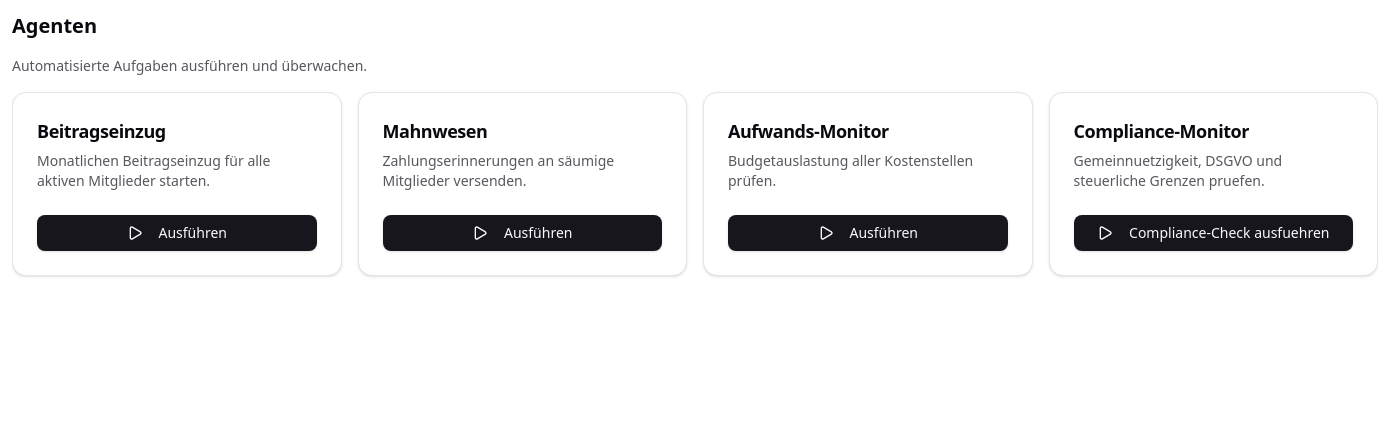
Test case: AgentDashboard › handles Aufwand-Monitor execution and shows cost center warnings
This screenshot has width=1378, height=448.
Click the button with test id "run-aufwand" at (868, 233), box [728,215,1008,251]
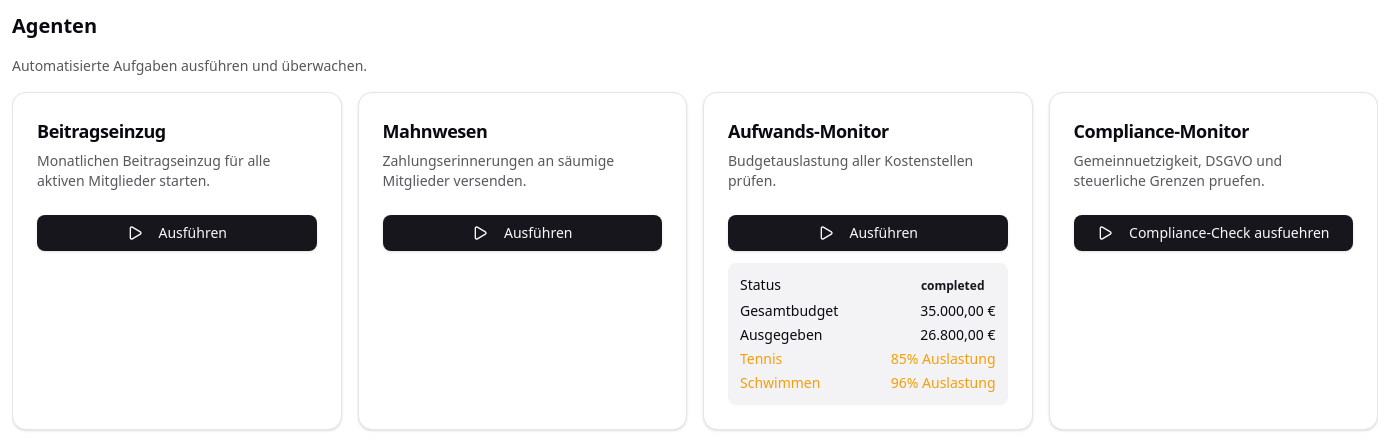
Now the text "Tennis" is shown, box [740,349,782,369]
Now the text "85% Auslastung" is shown, box [891,349,996,369]
